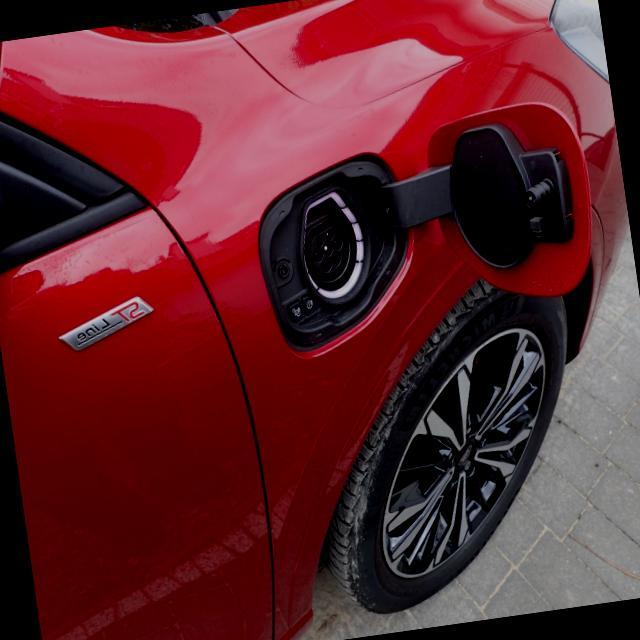Type 2: (268, 188, 387, 310)
